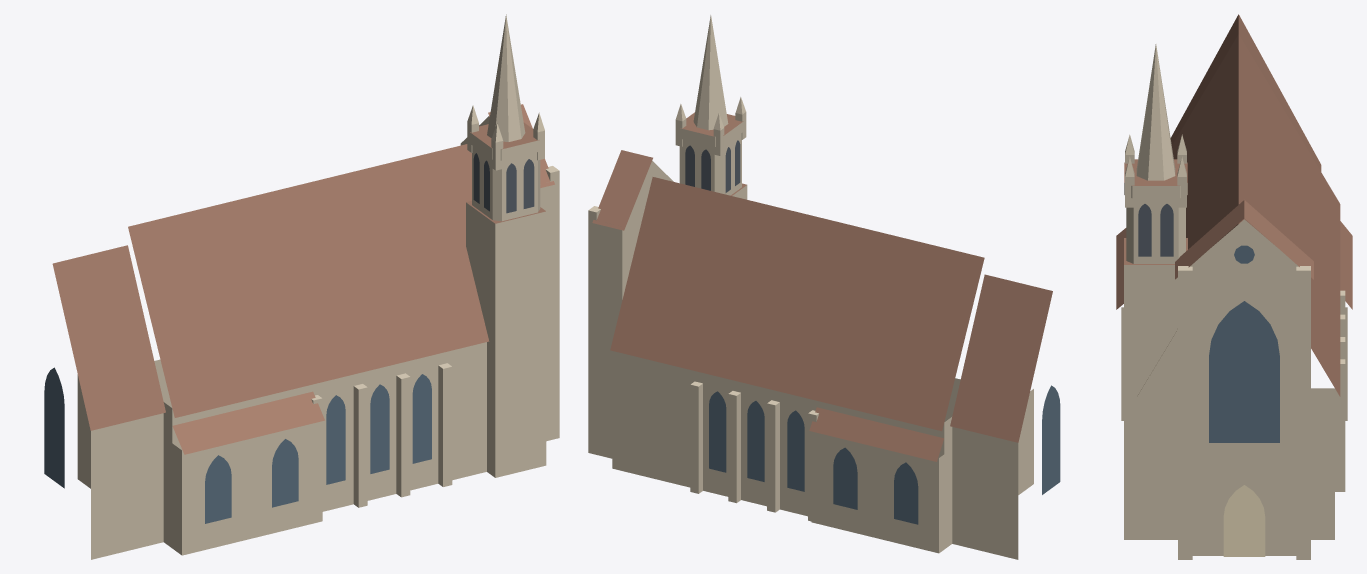
The model's file is chi-fourth-presbyterian.glb.
3 views of the same model, side by side, from view 1: azimuth 30°, elevation 25°; view 2: azimuth 150°, elevation 25°; view 3: azimuth 270°, elevation 25° (orthographic). The views are drawn at different scales.
Visible parts, largest first — view 1: Fourth Presbyterian Church; view 2: Fourth Presbyterian Church; view 3: Fourth Presbyterian Church.
Boxes of the visible parts, box(x1,y1,x2,y2) form: Fourth Presbyterian Church: box(44, 14, 559, 559); Fourth Presbyterian Church: box(588, 15, 1060, 559); Fourth Presbyterian Church: box(1116, 14, 1352, 559).
Size of the model in its own units: 57.2 by 51 by 22.6.
